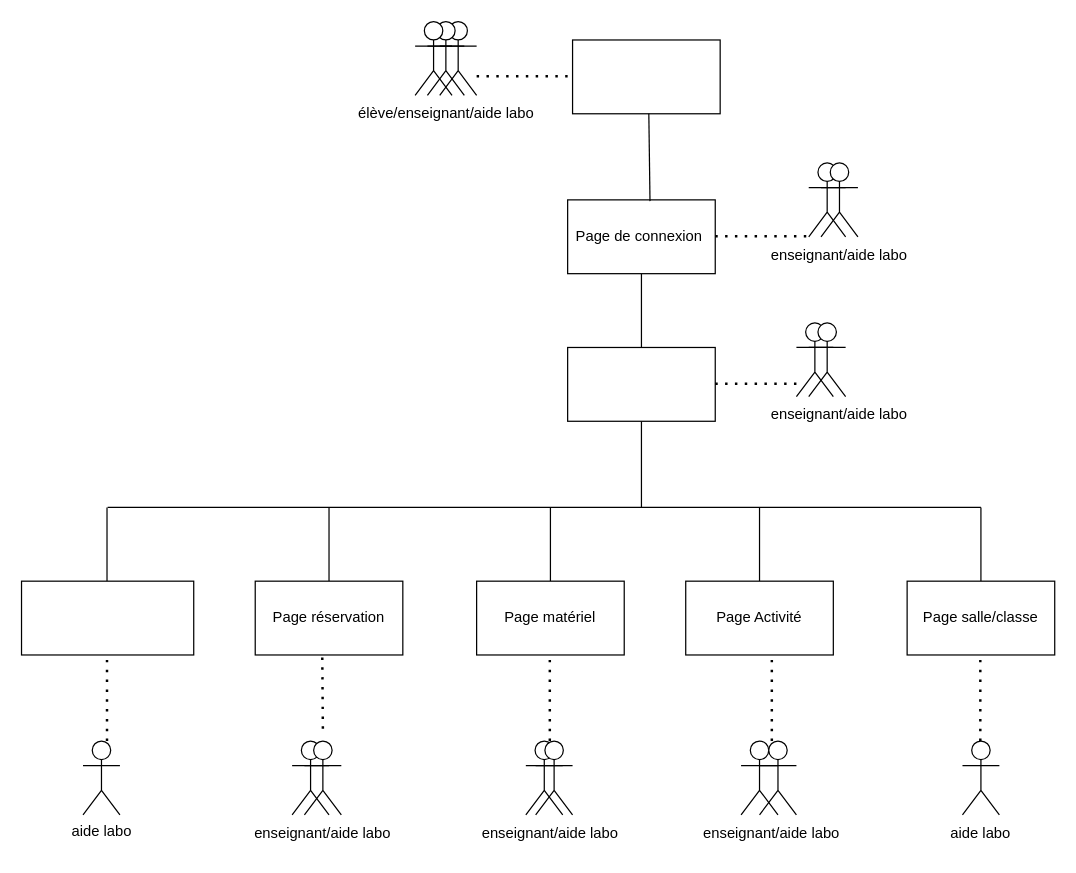
This 1076x873 diagram has some shape labels left out. The box of each missing label's shape, as (x1, y1, x2, y2) in pixels:
Page acceuil: (571, 39, 720, 114)
Page acceuil 2: (566, 346, 715, 421)
Page utilisateur (page ajouter/supprimer): (20, 580, 194, 655)
